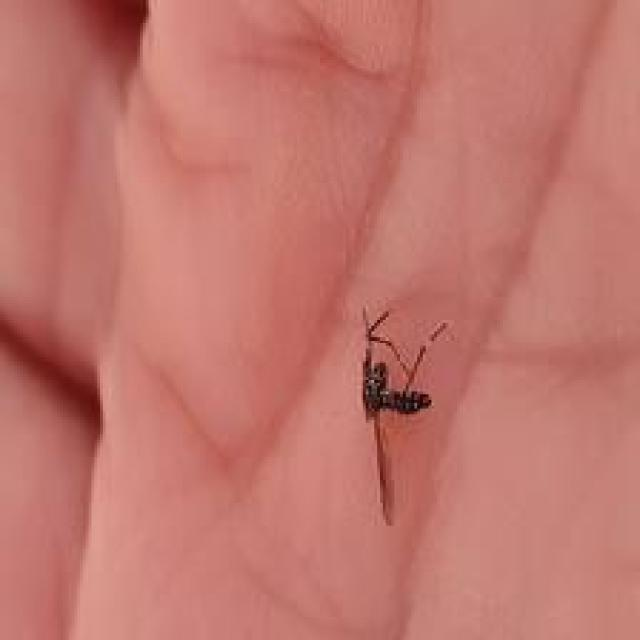Aedes albopictus: (356, 303, 450, 526)
